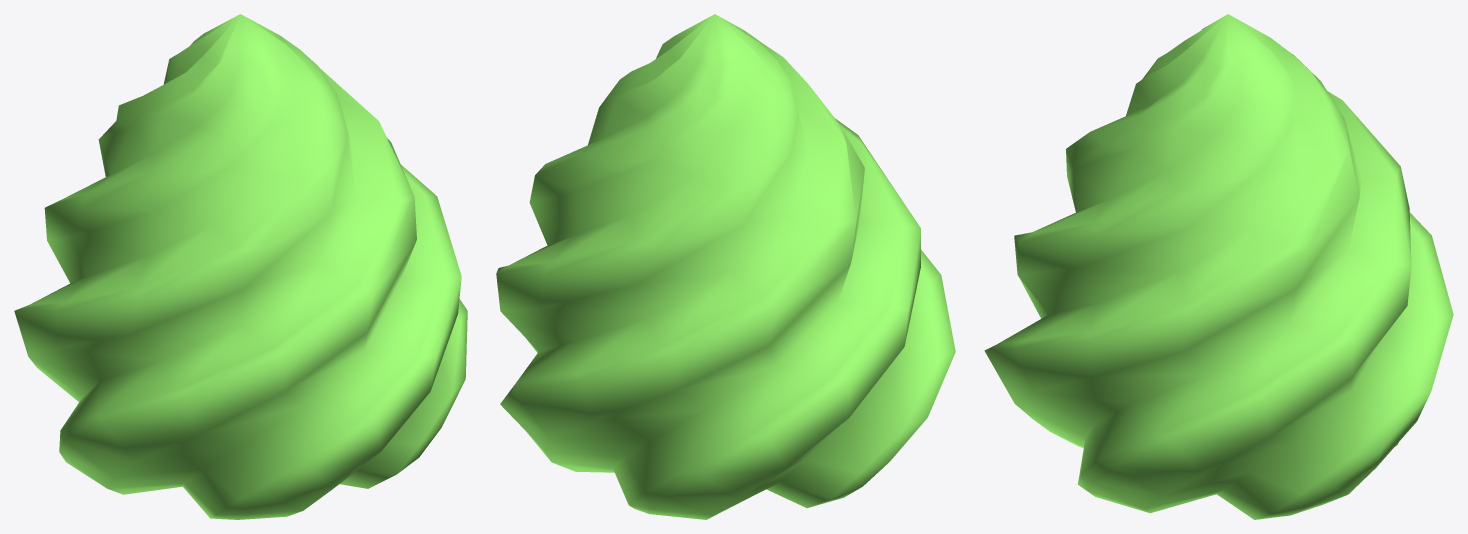
Rendered from Ice Cream Spiral C Green.fbx.
3 renders of one model, left to right at view 1: azimuth 30°, elevation 25°; view 2: azimuth 150°, elevation 25°; view 3: azimuth 270°, elevation 25°, orthographic.
Visible parts, largest first — view 1: Ice Cream Spiral C Green; view 2: Ice Cream Spiral C Green; view 3: Ice Cream Spiral C Green.
Boxes of the visible parts, x1=… form: Ice Cream Spiral C Green: x1=14, y1=14, x2=467, y2=519; Ice Cream Spiral C Green: x1=496, y1=14, x2=955, y2=519; Ice Cream Spiral C Green: x1=984, y1=14, x2=1453, y2=519.
Bounding box in the file's own units: 0.4215 × 0.4617 × 0.4308.
